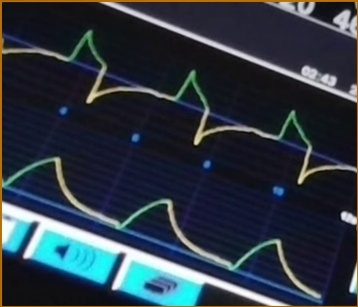Normal Flow: (3, 27, 358, 184)
Normal Volume: (3, 151, 322, 298)
